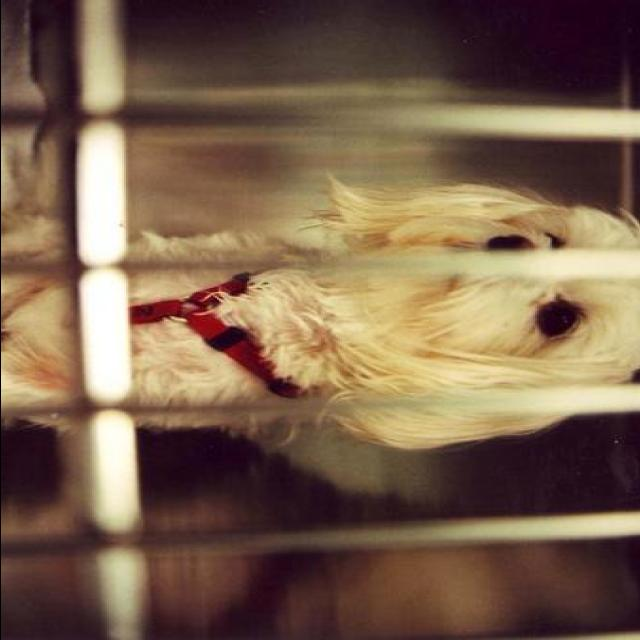maltese_dog: (4, 174, 640, 453)
